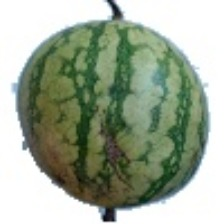watermelon: (49, 34, 204, 212)
